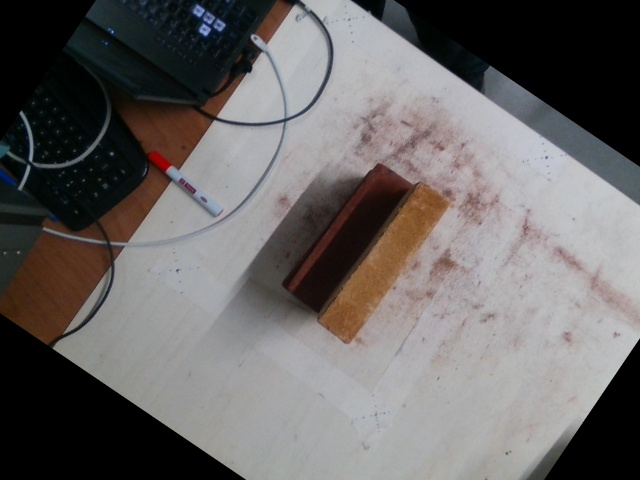brick-side: (318, 183, 448, 345)
